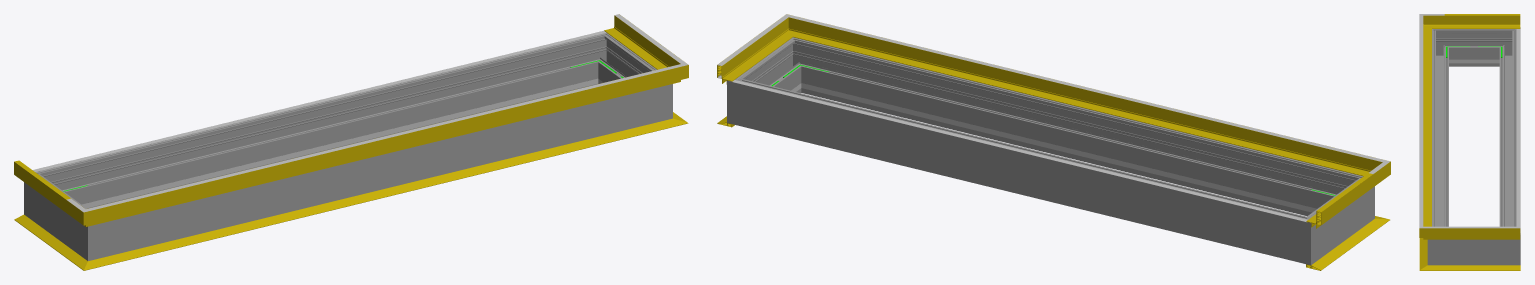
3 renders of one model, left to right at view 1: azimuth 30°, elevation 25°; view 2: azimuth 150°, elevation 25°; view 3: azimuth 270°, elevation 25°, orthographic. The views are drawn at different scales.
Parts seen in each view (by area): view 1: 3DGeom-276, 3DGeom-298, 3DGeom-56, 3DGeom-28, 3DGeom-244, 3DGeom-220, 3DGeom-66, 3DGeom-270, 3DGeom-58, 3DGeom-284, 3DGeom-290, 3DGeom-268 (+7 smaller); view 2: 3DGeom-298, 3DGeom-276, 3DGeom-56, 3DGeom-239, 3DGeom-278, 3DGeom-220, 3DGeom-66, 3DGeom-284, 3DGeom-58, 3DGeom-290, 3DGeom-297, 3DGeom-268 (+5 smaller); view 3: 3DGeom-276, 3DGeom-298, 3DGeom-56, 3DGeom-268, 3DGeom-297, 3DGeom-50, 3DGeom-220, 3DGeom-66, 3DGeom-58, 3DGeom-284, 3DGeom-290, 3DGeom-278 (+12 smaller).
Part boxes in pixels (x1,y1,x2,y2): 3DGeom-276: [57, 39, 593, 208]; 3DGeom-298: [118, 91, 642, 253]; 3DGeom-56: [111, 72, 658, 220]; 3DGeom-28: [109, 123, 657, 263]; 3DGeom-244: [93, 85, 568, 206]; 3DGeom-220: [32, 30, 606, 171]; 3DGeom-66: [111, 70, 657, 204]; 3DGeom-270: [70, 204, 118, 260]; 3DGeom-58: [604, 15, 666, 68]; 3DGeom-284: [581, 32, 621, 85]; 3DGeom-290: [642, 65, 672, 125]; 3DGeom-268: [41, 182, 79, 247]; 3DGeom-298: [806, 43, 1341, 215]; 3DGeom-276: [757, 84, 1286, 257]; 3DGeom-56: [808, 23, 1357, 173]; 3DGeom-239: [830, 90, 1305, 210]; 3DGeom-278: [1280, 208, 1328, 265]; 3DGeom-220: [732, 80, 1307, 221]; 3DGeom-66: [814, 21, 1359, 155]; 3DGeom-284: [727, 69, 762, 129]; 3DGeom-58: [717, 28, 784, 84]; 3DGeom-290: [778, 37, 817, 93]; 3DGeom-297: [749, 48, 798, 92]; 3DGeom-268: [1319, 187, 1357, 252]; 3DGeom-276: [1499, 38, 1516, 226]; 3DGeom-298: [1432, 38, 1448, 226]; 3DGeom-56: [1423, 33, 1431, 226]; 3DGeom-268: [1453, 29, 1495, 66]; 3DGeom-297: [1453, 239, 1495, 265]; 3DGeom-50: [1444, 15, 1520, 28]; 3DGeom-220: [1516, 29, 1520, 232]; 3DGeom-66: [1419, 24, 1423, 217]; 3DGeom-58: [1444, 228, 1520, 239]; 3DGeom-284: [1495, 223, 1520, 265]; 3DGeom-290: [1427, 223, 1452, 265]; 3DGeom-278: [1495, 27, 1520, 66].
Bounding box in the file's own units: 3.05 × 0.2831 × 0.6096.
